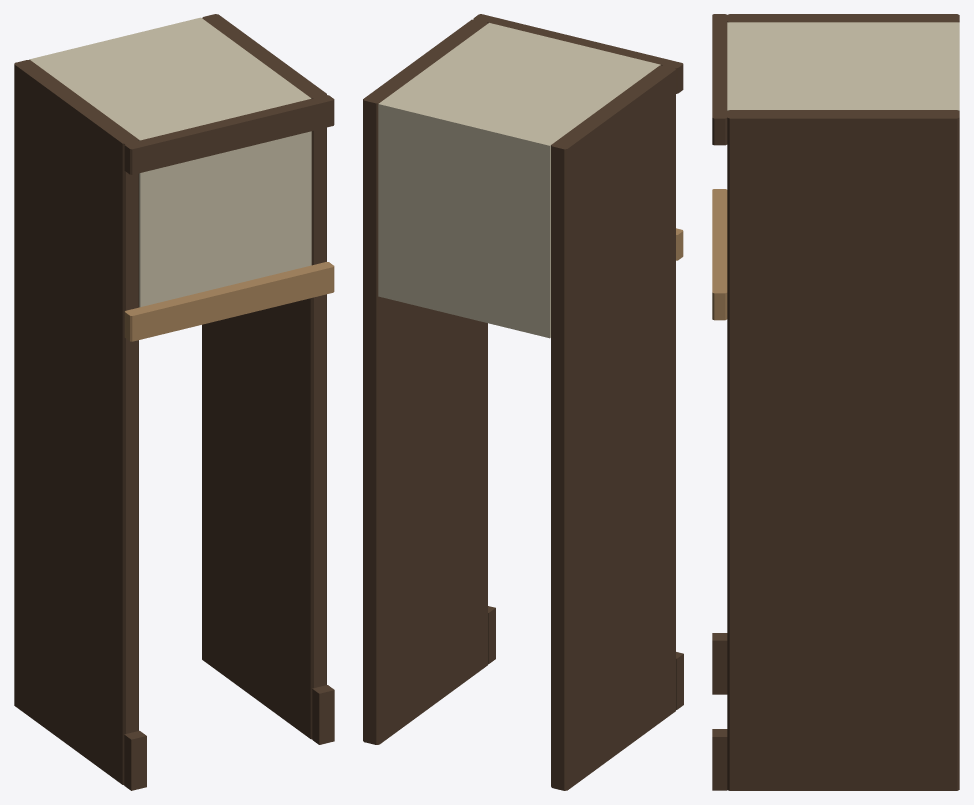
File: door_shop.glb
3 views of the same model, side by side, from view 1: azimuth 30°, elevation 25°; view 2: azimuth 150°, elevation 25°; view 3: azimuth 270°, elevation 25° (orthographic). The views are drawn at different scales.
Parts seen in each view (by area): view 1: geometry; view 2: geometry; view 3: geometry.
Boxes of the visible parts, bbox=[...] form: geometry: bbox=[14, 14, 334, 790]; geometry: bbox=[363, 14, 683, 790]; geometry: bbox=[712, 14, 959, 790].
Size of the model in its own units: 1 by 3 by 1.
